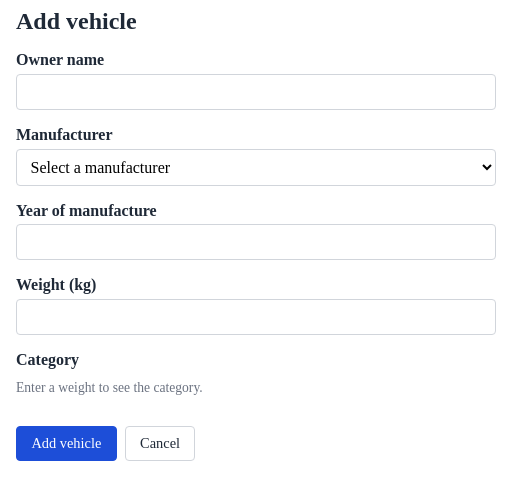
Test: VehicleFormComponent category preview › updates the category as the weight is typed, with inclusive limits
The width and height of the screenshot is (513, 499).
Step 1. Type "499.99" into the number field with id "weight" → coordinates (256, 317), box [16, 299, 496, 335]
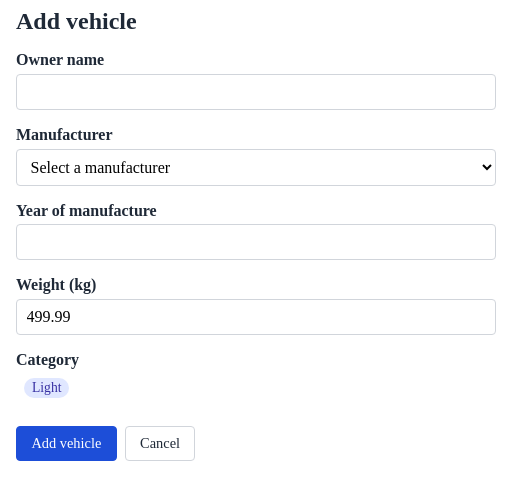
expect the text "Light" is shown: met, box [24, 378, 70, 398]
Step 2. Replace the text in the number field with id "weight" with "500" → coordinates (256, 317), box [16, 299, 496, 335]
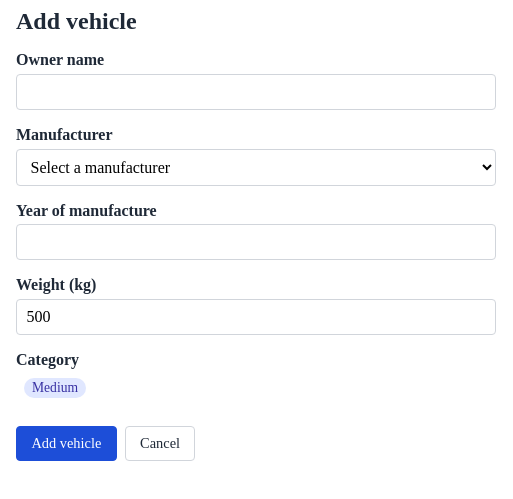
expect the text "Medium" is shown: met, box [24, 378, 86, 398]
Step 3. Replace the text in the number field with id "weight" with "3000" → coordinates (256, 317), box [16, 299, 496, 335]
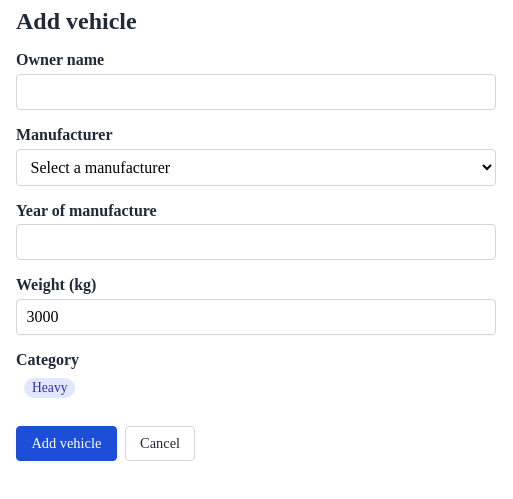
expect the text "Heavy" is shown: met, box [24, 378, 76, 398]
Step 4. Replace the text in the number field with id "weight" with "1.234" → coordinates (256, 317), box [16, 299, 496, 335]
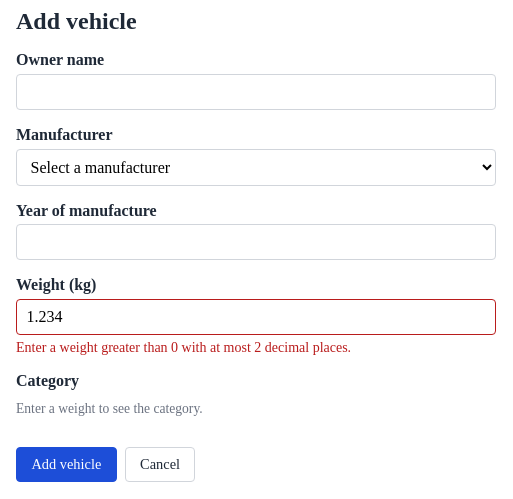
expect the text "Enter a weight to see the category." is shown: met, box [16, 401, 203, 417]
